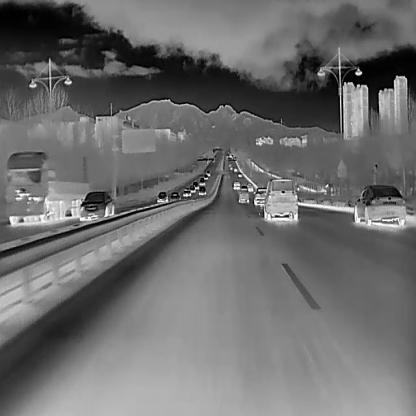car: (353, 184, 406, 225), (264, 179, 297, 221), (78, 190, 114, 221), (253, 187, 268, 207), (156, 190, 168, 202), (169, 191, 180, 201), (183, 187, 191, 197), (198, 185, 206, 195), (246, 182, 254, 192), (232, 180, 240, 190), (189, 184, 195, 192), (192, 181, 198, 189), (199, 177, 205, 185), (205, 170, 210, 175), (237, 172, 242, 177), (228, 165, 233, 170), (204, 173, 208, 179), (233, 166, 237, 172)
truck: (4, 149, 90, 226), (237, 186, 249, 203)
